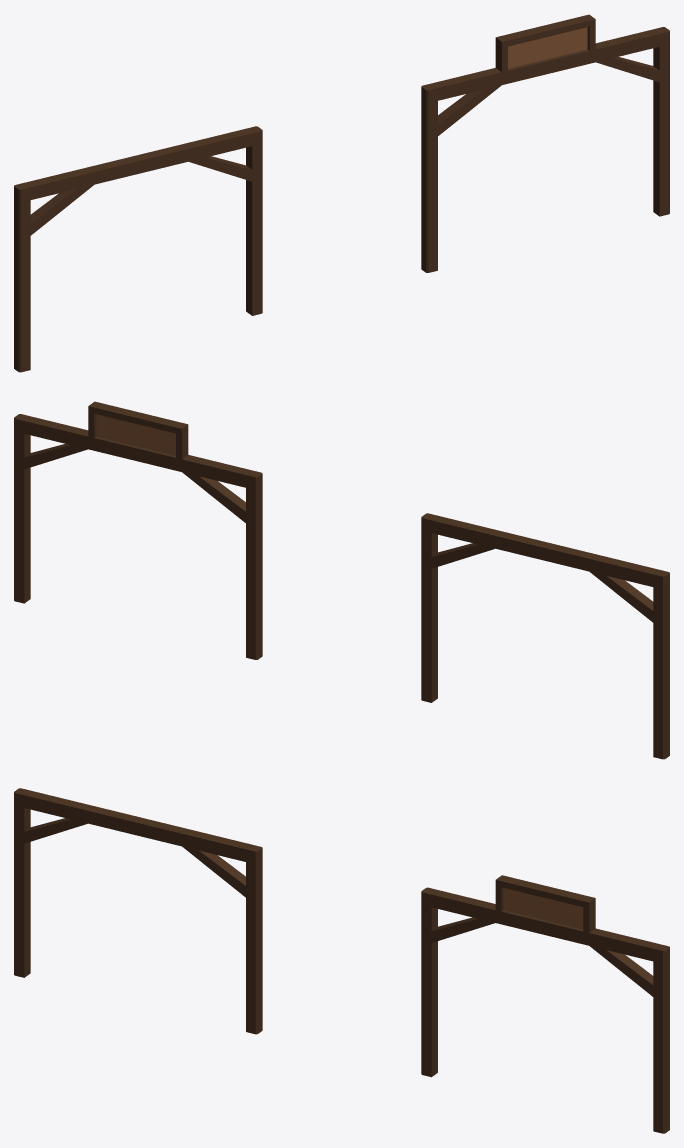
Rendered from gate.fbx.
3 views of the same model, one above another, from view 1: azimuth 30°, elevation 25°; view 2: azimuth 150°, elevation 25°; view 3: azimuth 330°, elevation 25° (orthographic).
Parts seen in each view (by area): view 1: Cube, Cube.001; view 2: Cube, Cube.001; view 3: Cube, Cube.001.
Part boxes in pixels (x1,y1,x2,y2): Cube: (421,14,669,272); Cube.001: (14,126,262,372); Cube: (14,401,262,659); Cube.001: (421,513,669,759); Cube: (421,875,669,1133); Cube.001: (14,788,262,1034).
Size of the model in its own units: 1119 by 18.96 by 350.
